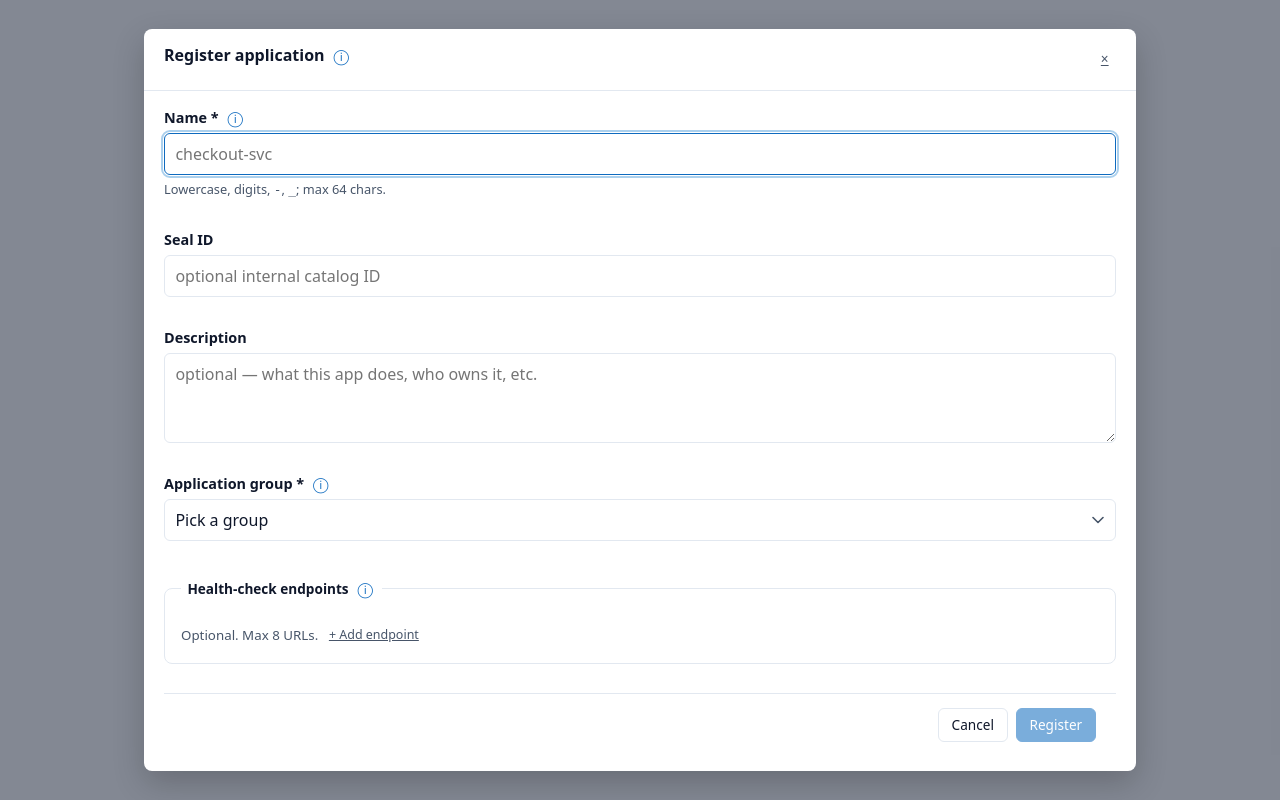
it: CreateApplicationDialog — validation › name 'a' + a group is valid — no capacity grid blocking submit
The image size is (1280, 800).
expect the dropdown labelled "Application group *" is enabled: met, box x1=164 y1=499 x2=1116 y2=541
In the field labelled "Name *": (640, 154) x1=164 y1=133 x2=1116 y2=175, type "a"
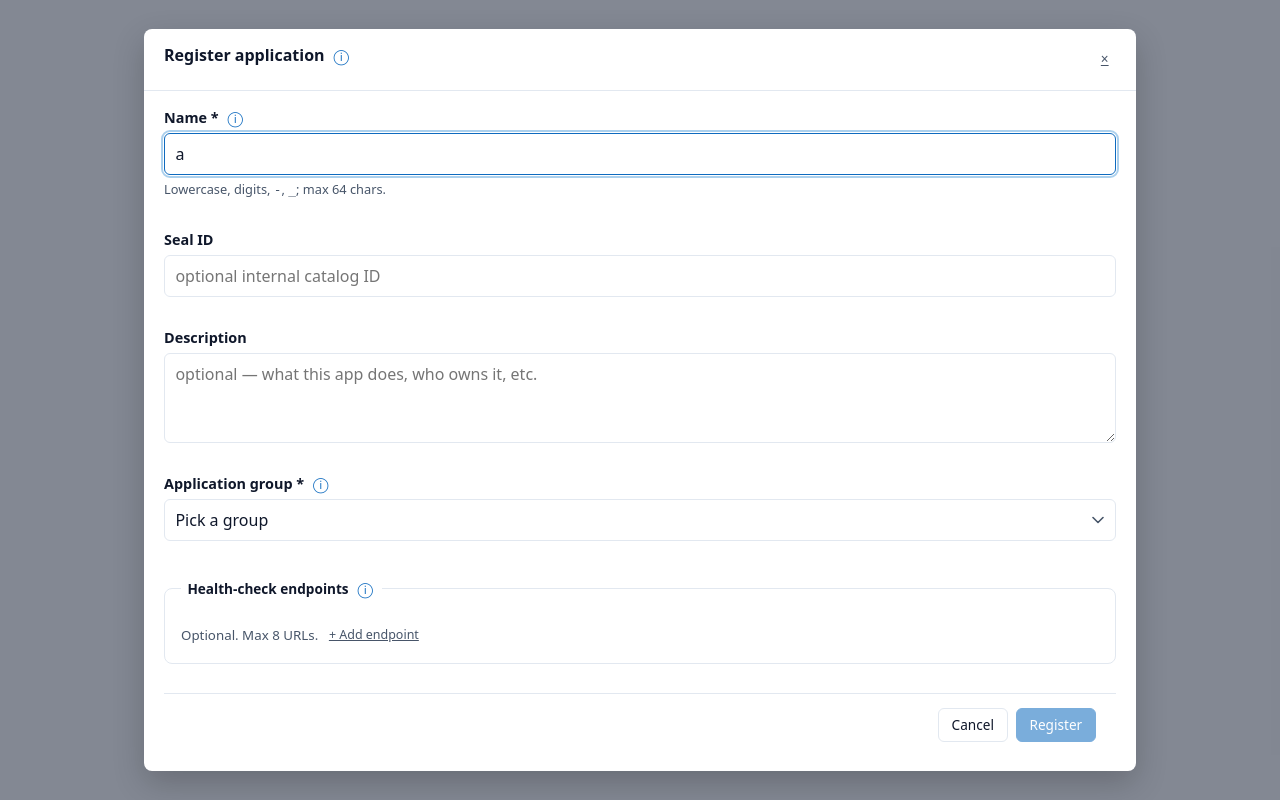
Select "Servicing MQ" in the dropdown labelled "Application group *": (640, 520) x1=164 y1=499 x2=1116 y2=541
(page scrolled)
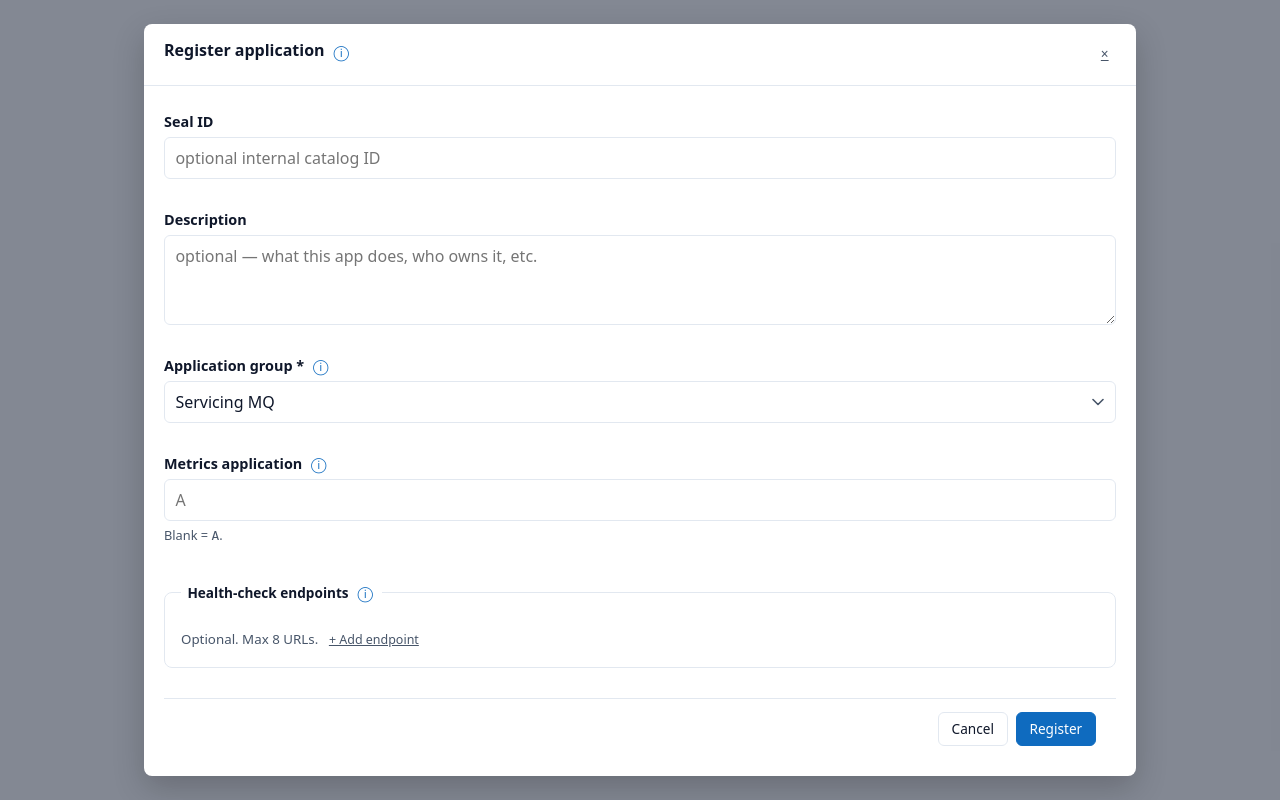
expect the button "Register" is enabled: met, box x1=1016 y1=712 x2=1096 y2=746
